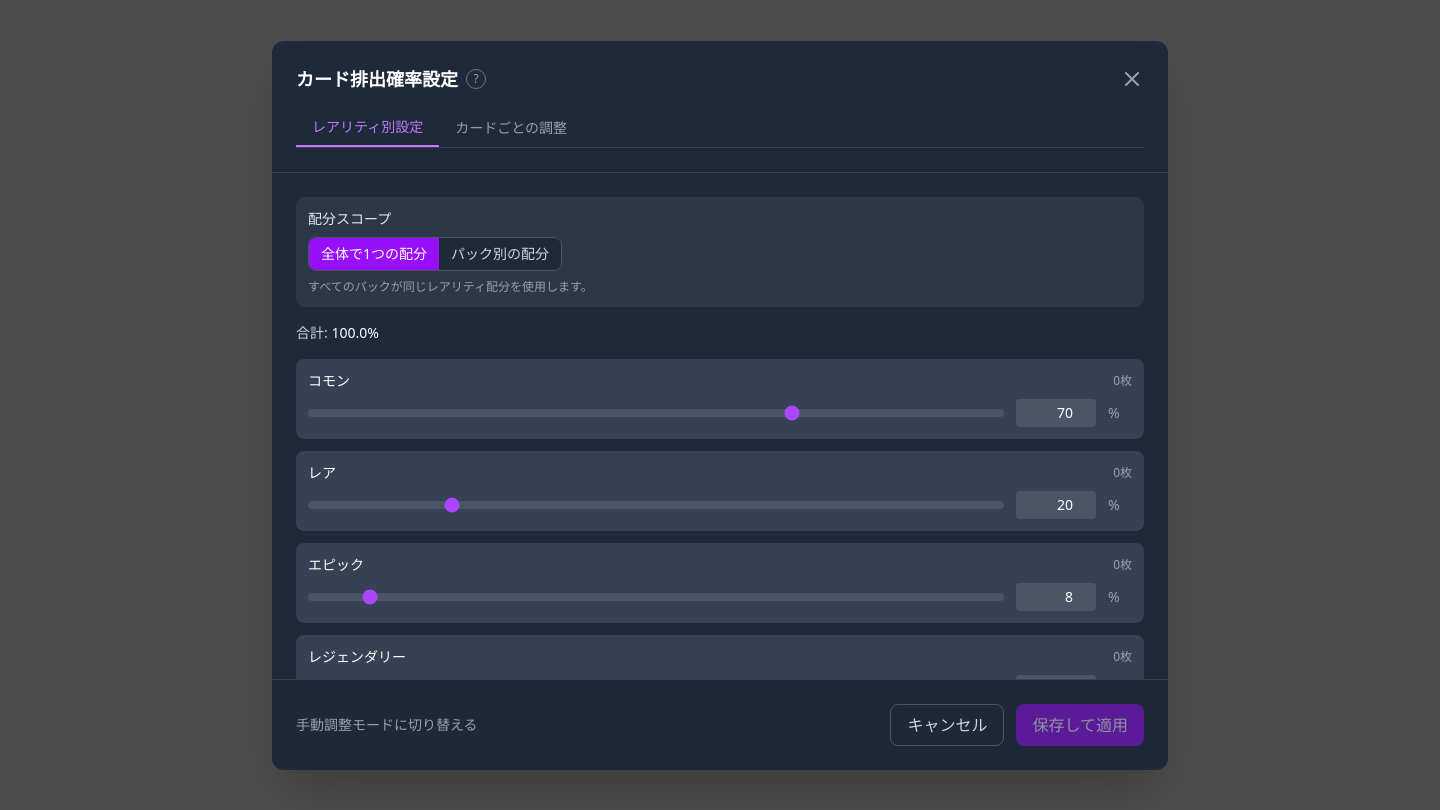
DropRateAutoModeContent per-pack sum-100 validation › shows a warning and disables save when a per-pack entry does not total 100%
The width and height of the screenshot is (1440, 810).
Step 1. Click the radio button labelled "パック別の配分" → [500, 254], box x1=439 y1=238 x2=561 y2=270
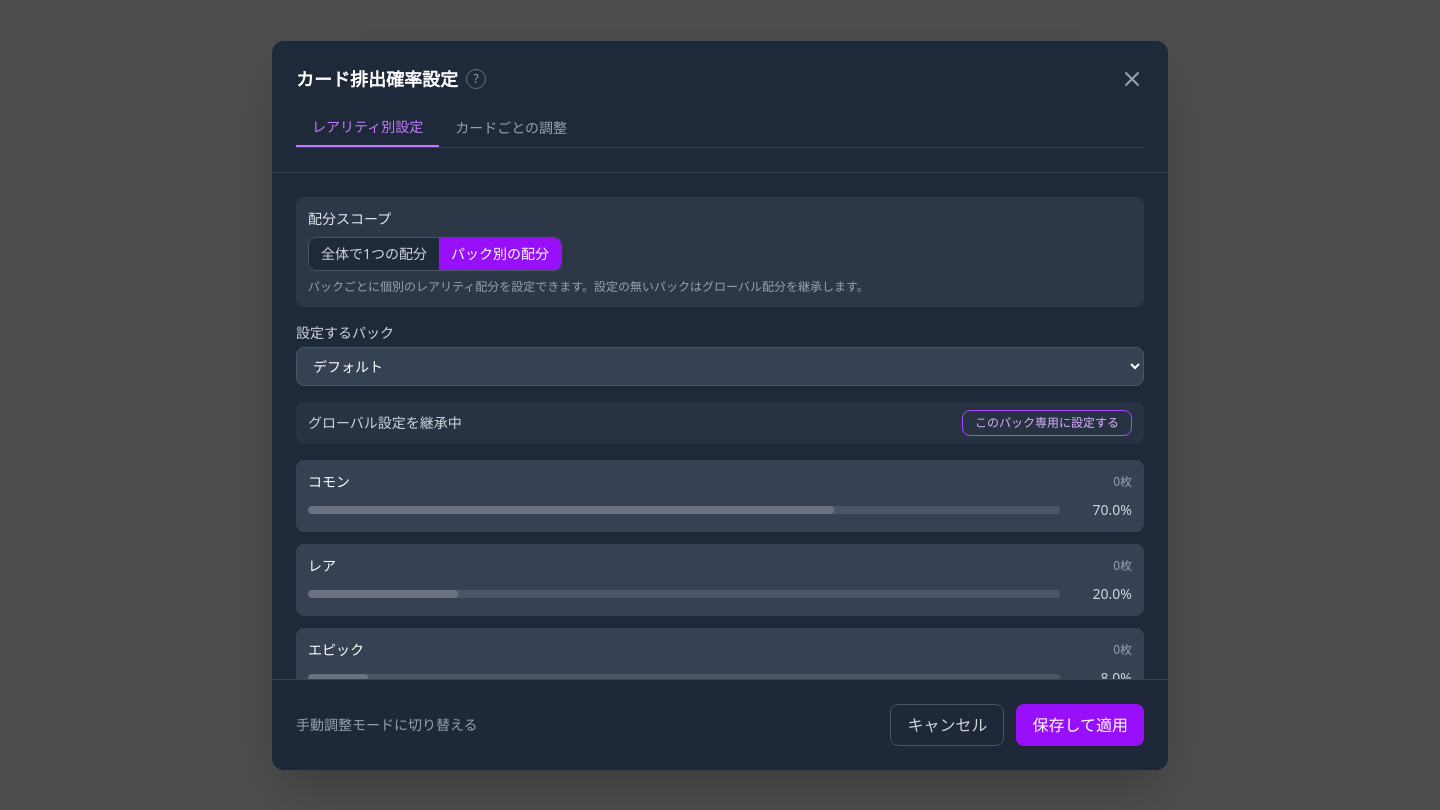
Step 2. Click the button "このパック専用に設定する" → [1047, 422], box x1=962 y1=410 x2=1132 y2=436
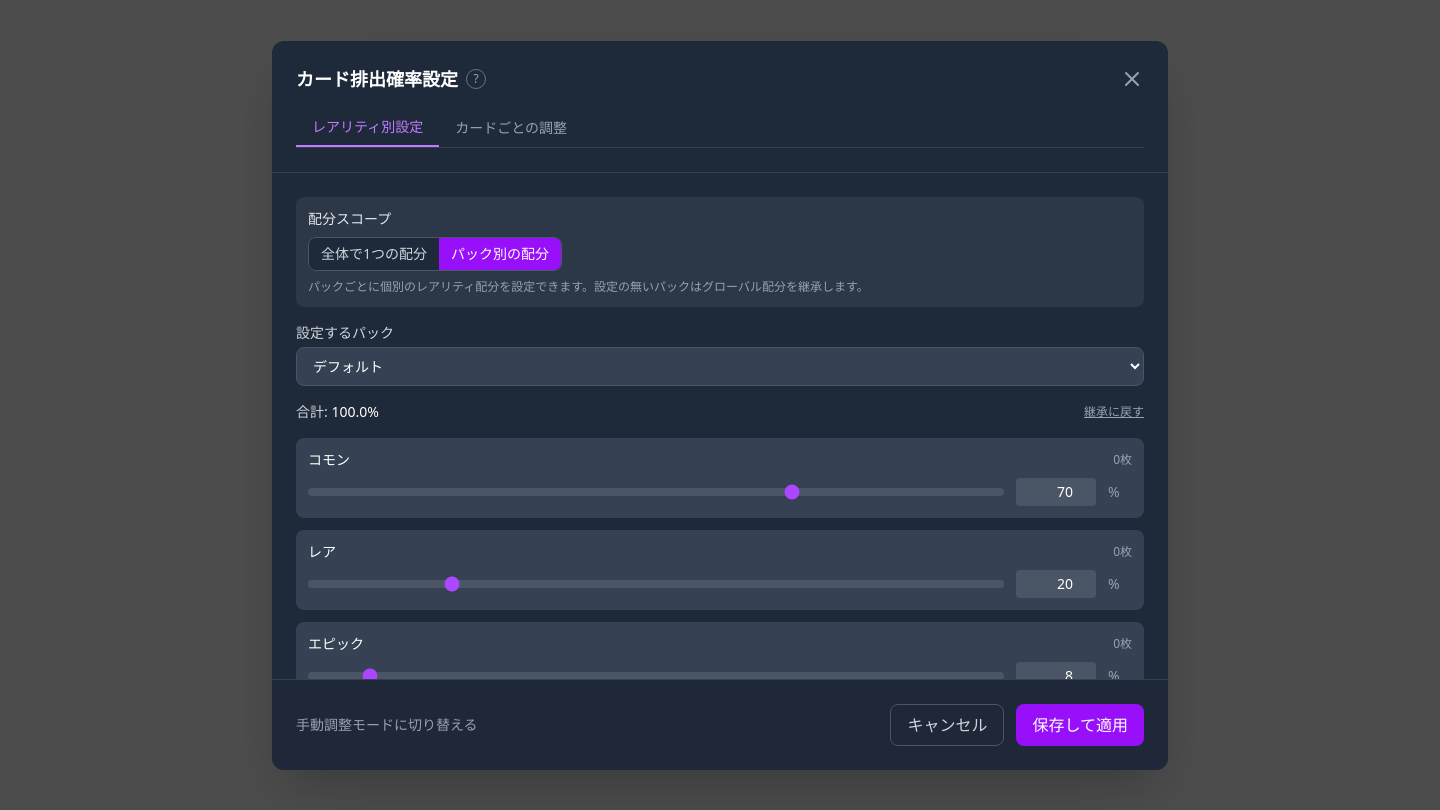
Step 3. Replace the text in the 1st number field with "50" → [1056, 492], box x1=1016 y1=478 x2=1096 y2=506
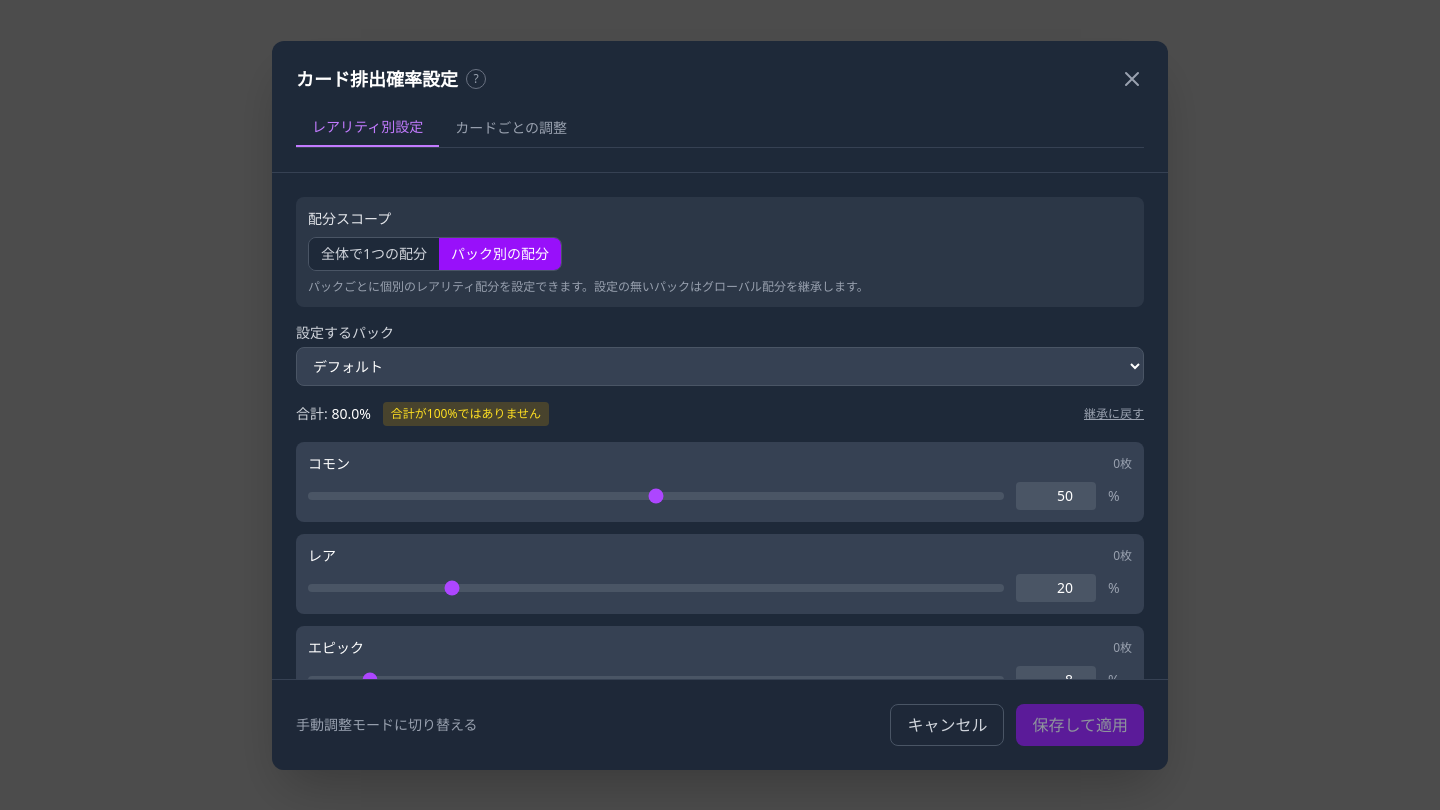
Expected: the text "合計が100%ではありません" is shown, x1=383 y1=402 x2=549 y2=426
Expected: the button "保存して適用" is disabled, x1=1016 y1=704 x2=1144 y2=746
